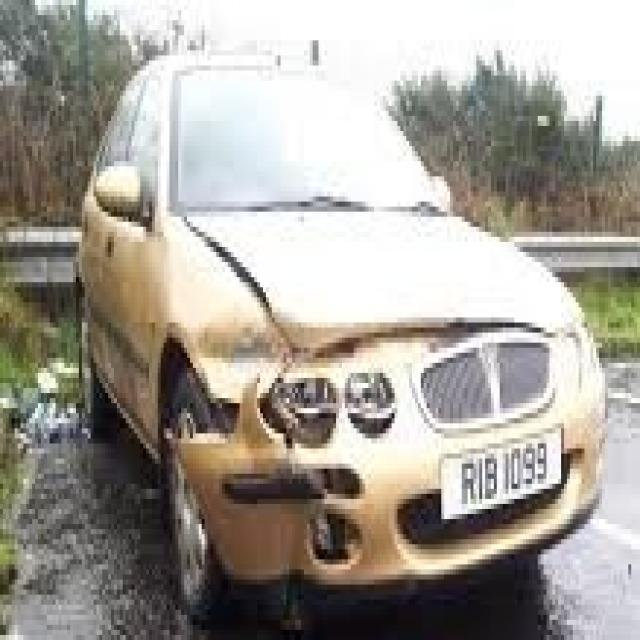moderate: (156, 292, 367, 587)
